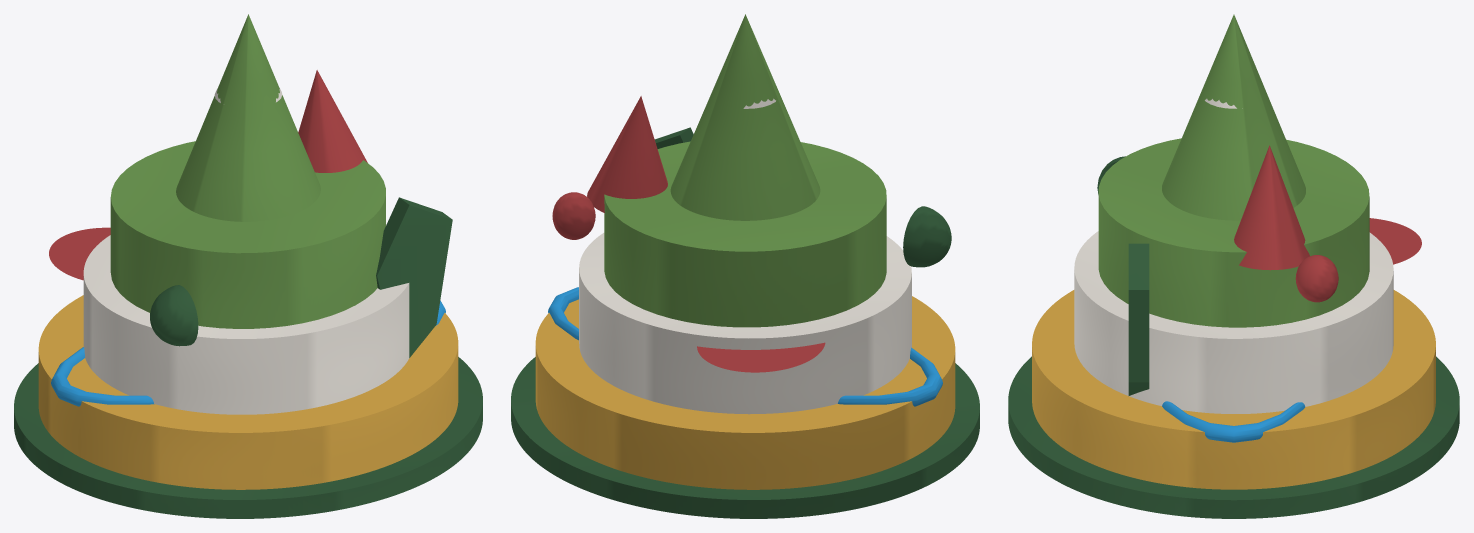
Rendered from 1196_唐图鉴_酥山.glb.
3 renders of one model, left to right at view 1: azimuth 30°, elevation 25°; view 2: azimuth 150°, elevation 25°; view 3: azimuth 270°, elevation 25°, orthographic.
Visible parts, largest first — view 1: card_1196; view 2: card_1196; view 3: card_1196.
Part boxes in pixels (bbox=[...]): card_1196: bbox=[14, 14, 482, 518]; card_1196: bbox=[511, 14, 979, 518]; card_1196: bbox=[1008, 14, 1459, 518].
Size of the model in its own units: 1.05 by 1 by 1.01.
